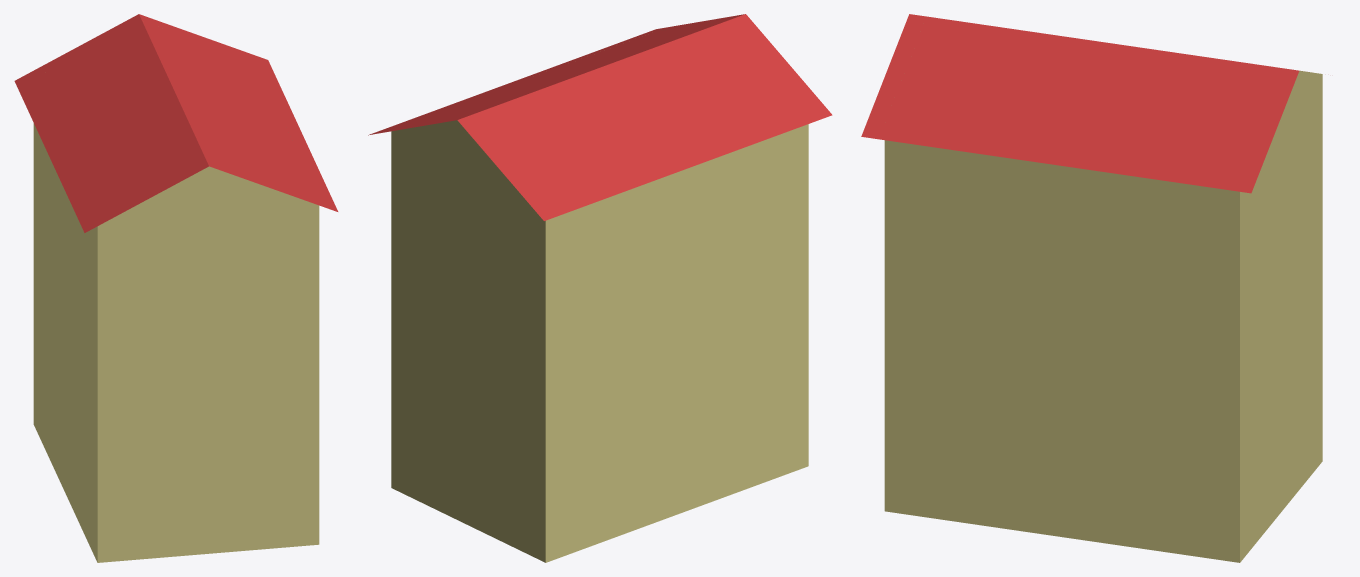
3 views of the same model, side by side, from view 1: azimuth 30°, elevation 25°; view 2: azimuth 150°, elevation 25°; view 3: azimuth 270°, elevation 25° (orthographic). The views are drawn at different scales.
Parts seen in each view (by area): view 1: group_5, group_3, group_4; view 2: group_5, group_3, group_4; view 3: group_5, group_3, group_4.
Part boxes in pixels (x1,y1,x2,y2): group_5: (33, 123, 319, 562); group_3: (14, 14, 318, 232); group_4: (15, 14, 338, 211); group_5: (391, 120, 808, 562); group_3: (368, 14, 832, 220); group_4: (377, 14, 745, 220); group_5: (884, 70, 1322, 562); group_3: (884, 16, 1299, 193); group_4: (861, 14, 1298, 192).
Size of the model in its own units: 5.58 by 6.61 by 6.67.
